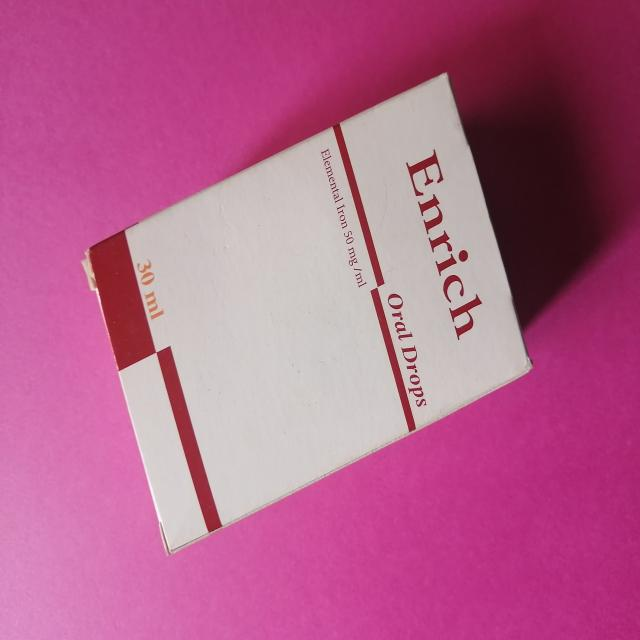Medicine: (80, 69, 536, 561)
